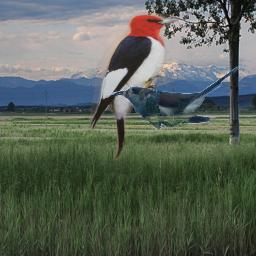Cuckoo: (113, 66, 242, 130)
Woodpecker: (89, 13, 179, 160)
